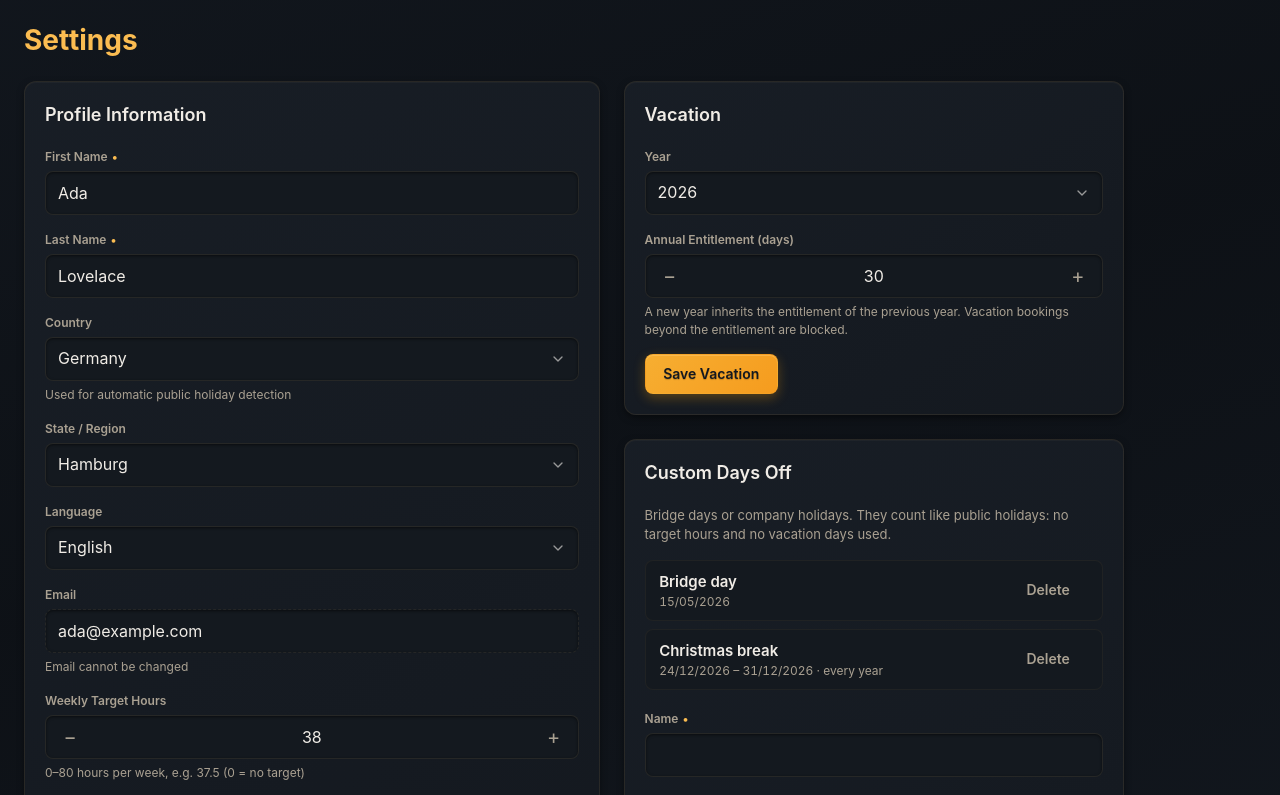
Test case: SettingsPage – language › shows an error toast when saving the language fails
This screenshot has width=1280, height=795.
Select "Deutsch" in the dropdown labelled "Language" at (312, 548), box x1=58 y1=527 x2=566 y2=569
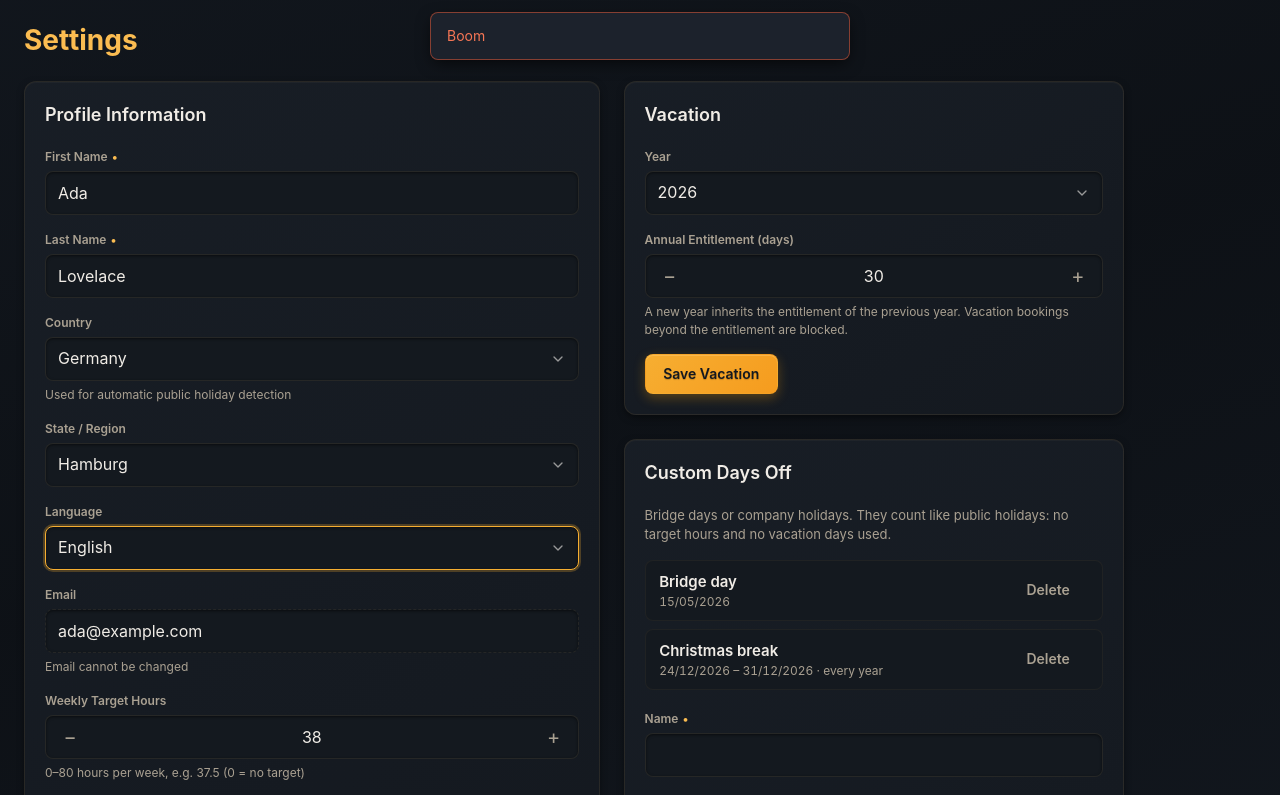
Now the text "Boom" is shown, box x1=430 y1=12 x2=850 y2=60
